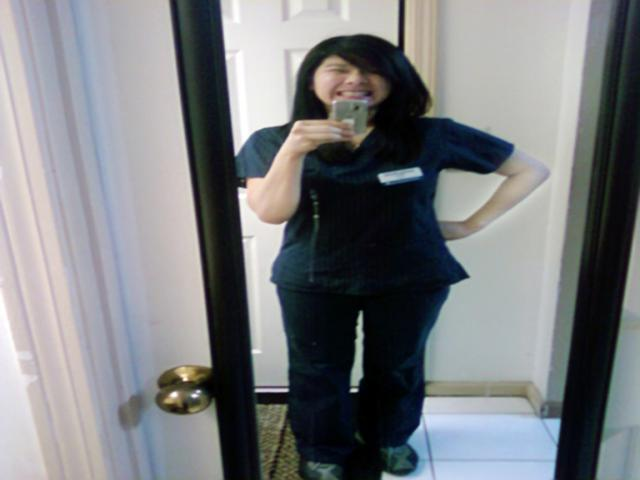Door-handle: (150, 361, 224, 418)
